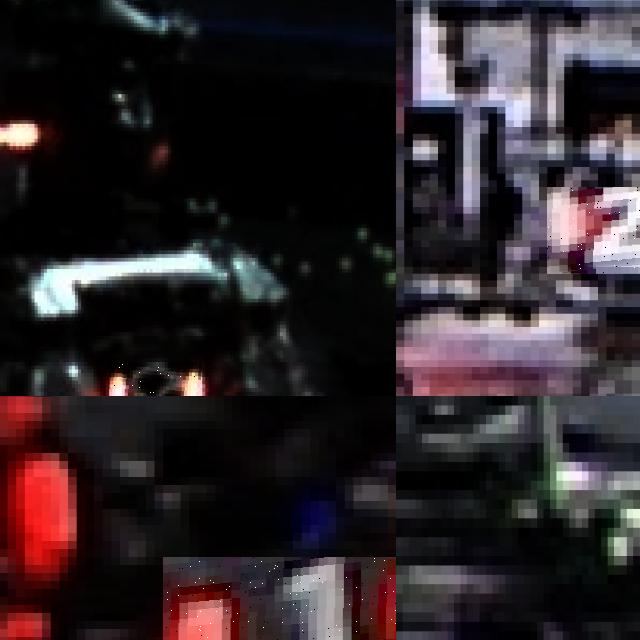R1: (163, 557, 396, 640)
R2: (547, 187, 640, 273)
Rs: (109, 362, 202, 396)
